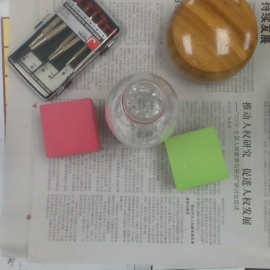bottle: (104, 73, 181, 150)
chess: (165, 1, 258, 83)
